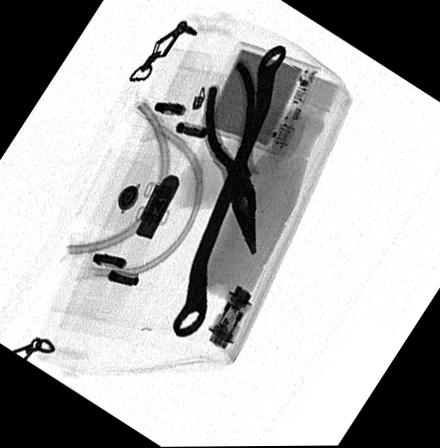Pliers: (206, 59, 257, 256)
Powerbank: (199, 41, 320, 156)
Wrench: (172, 45, 286, 338)
